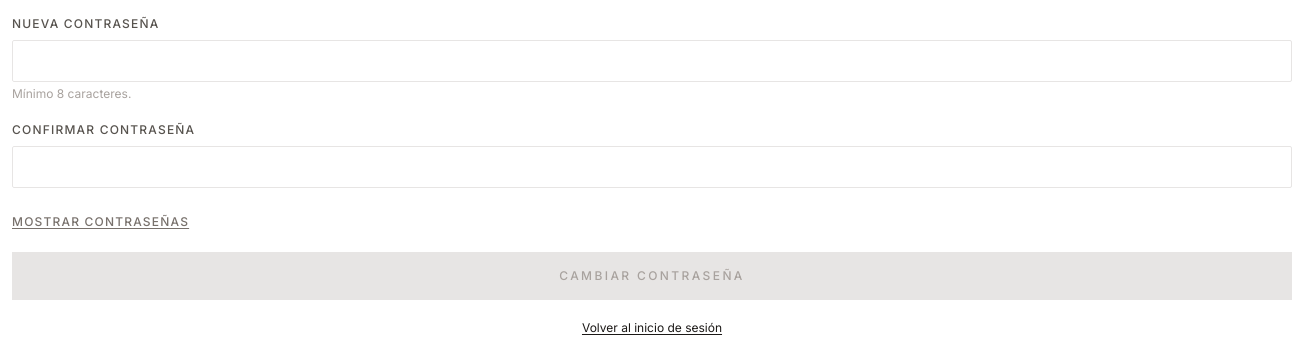
Scenario: ResetPasswordForm › reveals both fields, swaps label, and preserves typed values when toggled on
Type "newpassword123" into the password field labelled "Nueva contraseña" at [652, 61], box x1=12 y1=40 x2=1292 y2=82
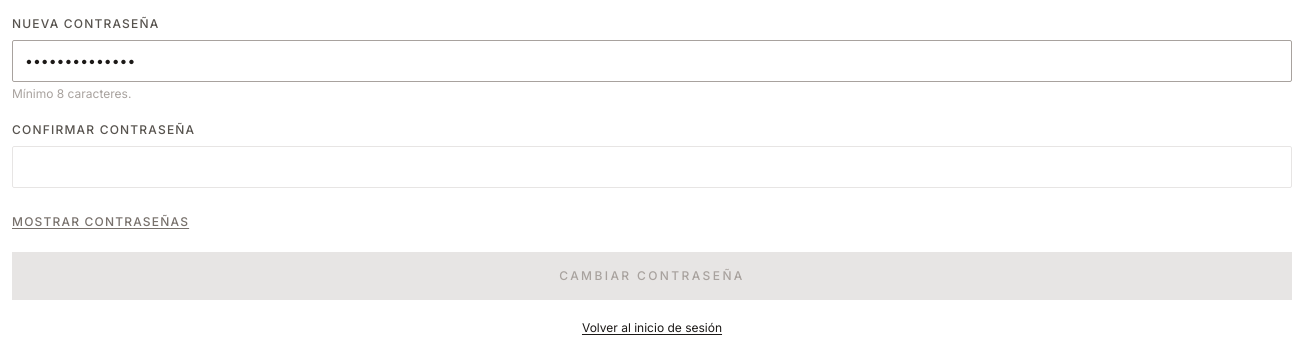
Type "newpassword123" into the password field labelled "Confirmar contraseña" at [652, 167], box x1=12 y1=146 x2=1292 y2=188
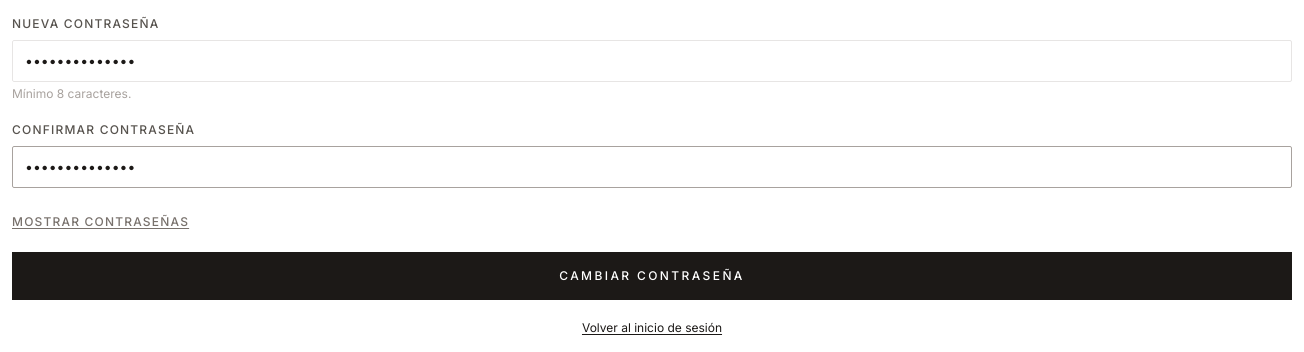
Click the button with aria-label "mostrar las contraseñas" at [101, 222], box x1=12 y1=214 x2=189 y2=230
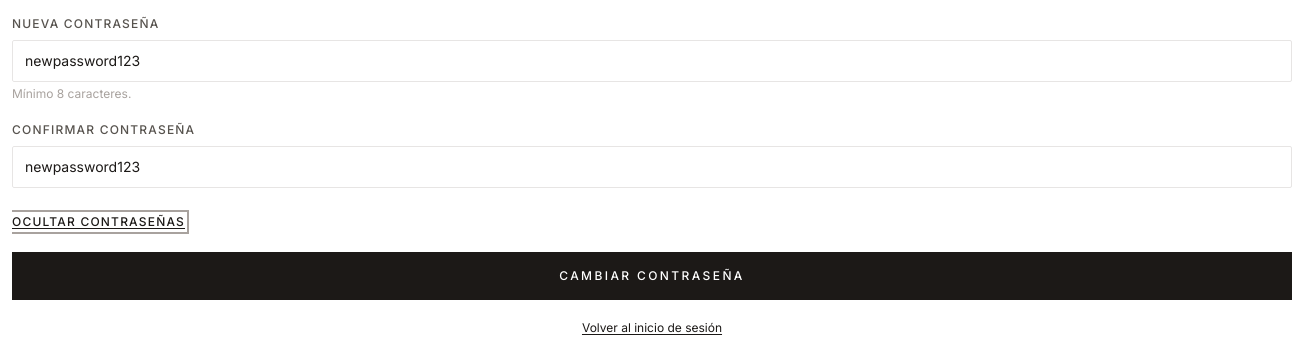
expect the field labelled "Nueva contraseña" shows its text: met, box x1=12 y1=40 x2=1292 y2=82
expect the field labelled "Confirmar contraseña" shows its text: met, box x1=12 y1=146 x2=1292 y2=188
expect the button "Ocultar contraseñas" is shown: met, box x1=12 y1=214 x2=185 y2=230
